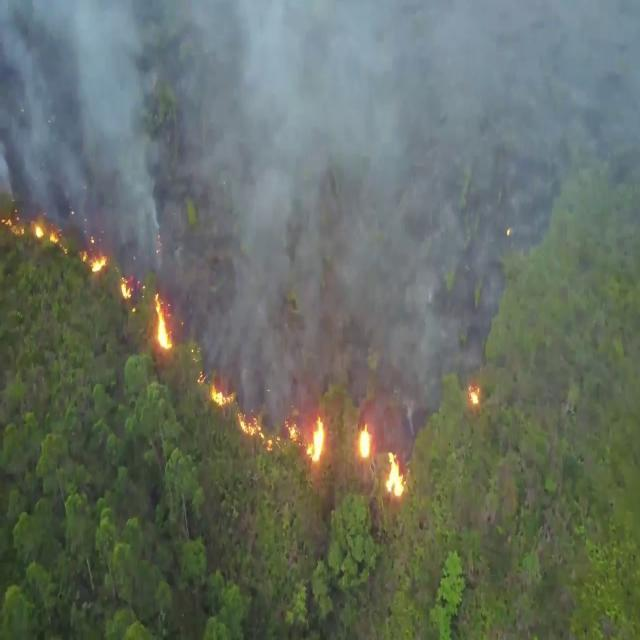Fire: (236, 410, 274, 452), (384, 448, 408, 499), (304, 415, 326, 462), (155, 292, 173, 349), (211, 383, 235, 406), (358, 423, 372, 459), (284, 413, 298, 443), (120, 276, 134, 300), (90, 255, 106, 273), (468, 384, 480, 406), (49, 231, 60, 244), (34, 226, 44, 238)
Smoke: (0, 1, 640, 437)
